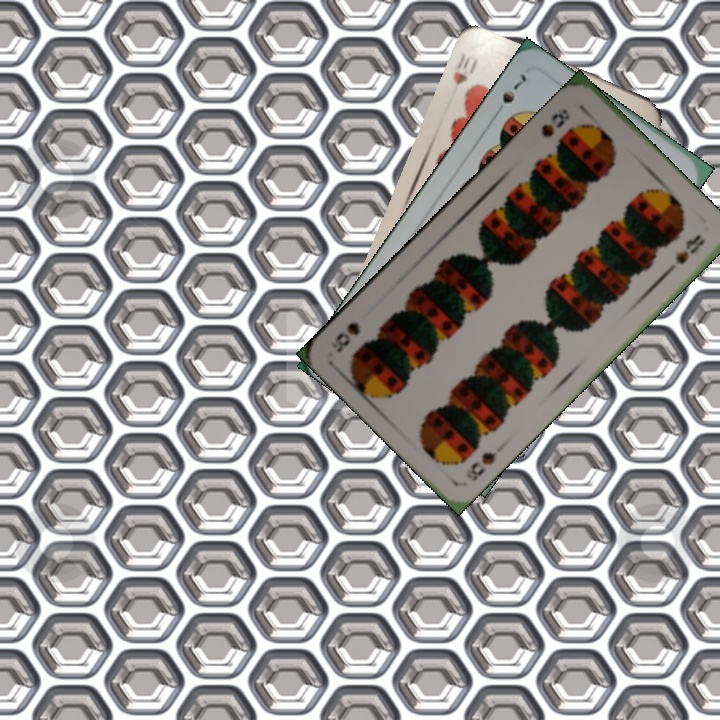H10: (449, 48, 481, 88)
S7: (497, 69, 530, 106)
S8: (462, 447, 499, 485), (537, 104, 573, 140)
